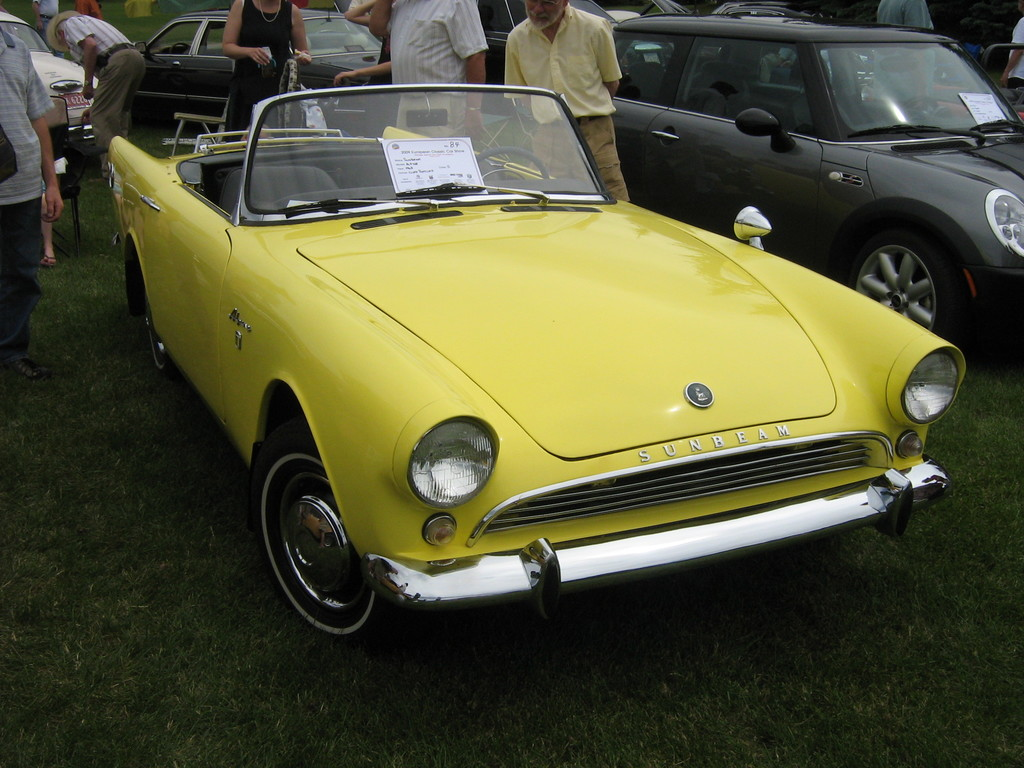Car: (101, 75, 973, 653), (608, 10, 1023, 339), (134, 1, 399, 142), (470, 0, 679, 91), (0, 7, 100, 163)
